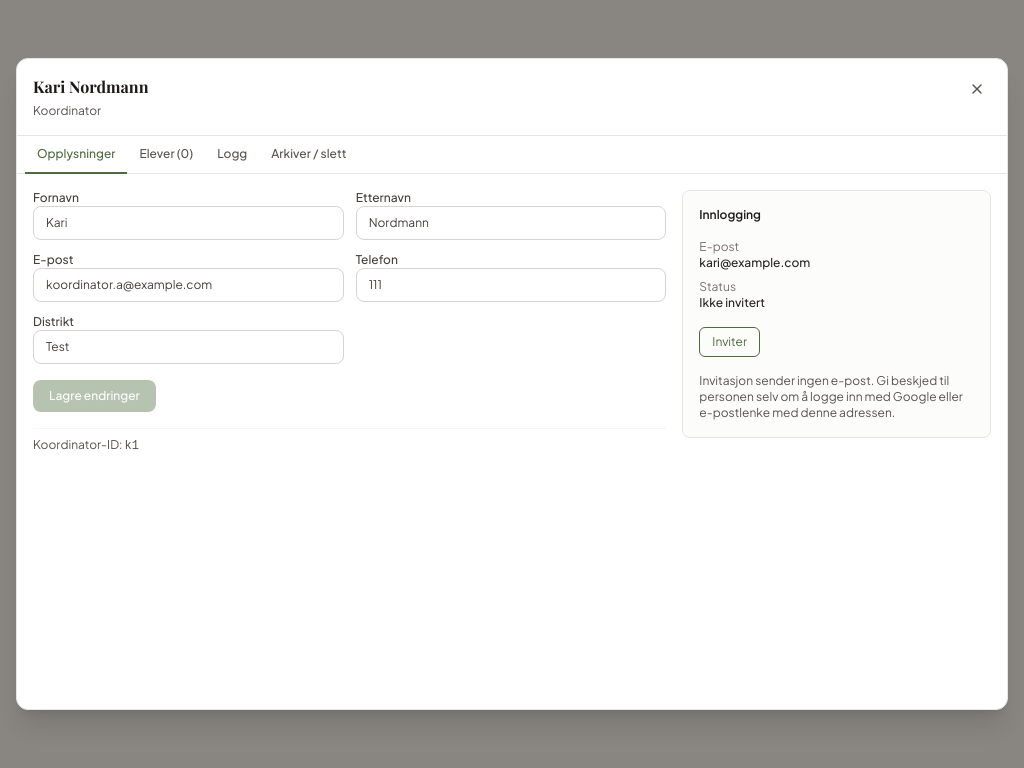
personkort: opplysninger › lagrer bare endret felt
expect the button "Lagre endringer" is disabled: met, box [33,380,156,412]
Replace the text in the field labelled "Telefon" with "456" at (511, 285), box [356,268,666,302]
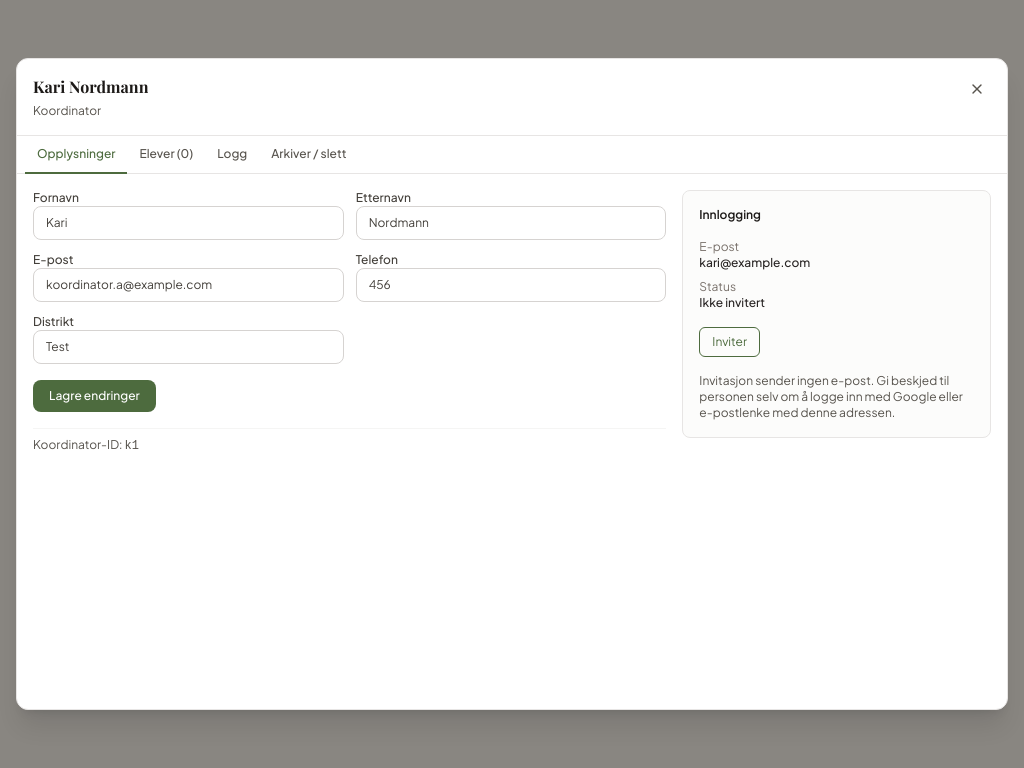
expect the button "Lagre endringer" is enabled: met
Click the button "Lagre endringer" at (94, 396), box [33,380,156,412]
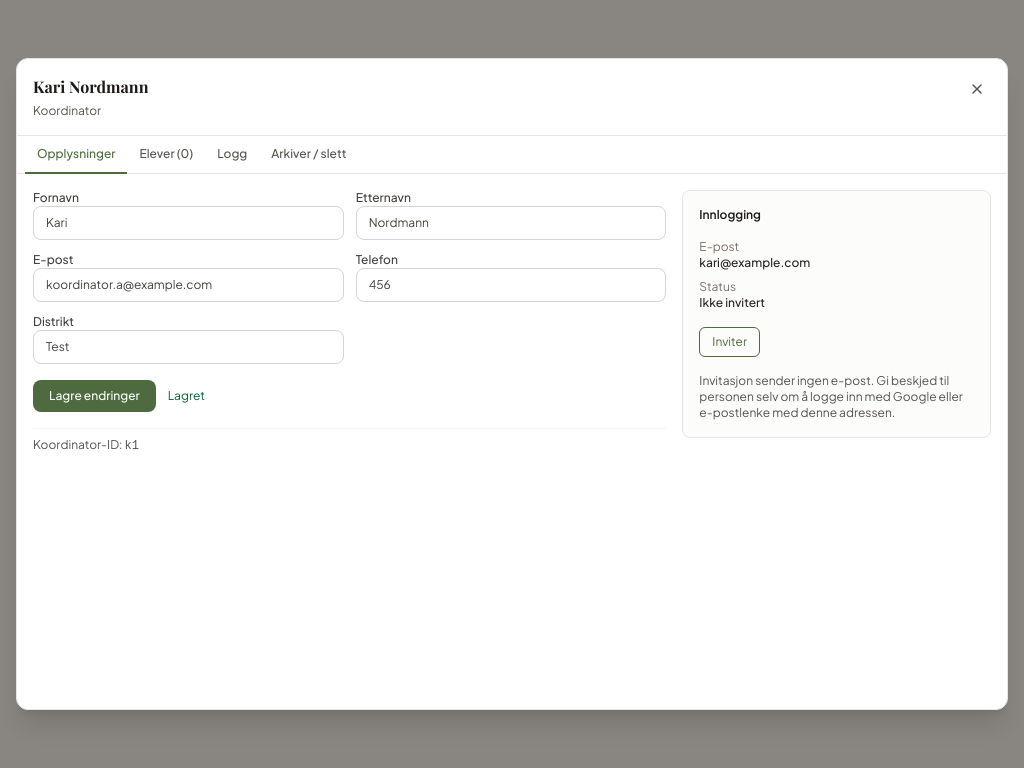
expect the text "Lagret" is shown: met, box [168,388,205,404]
